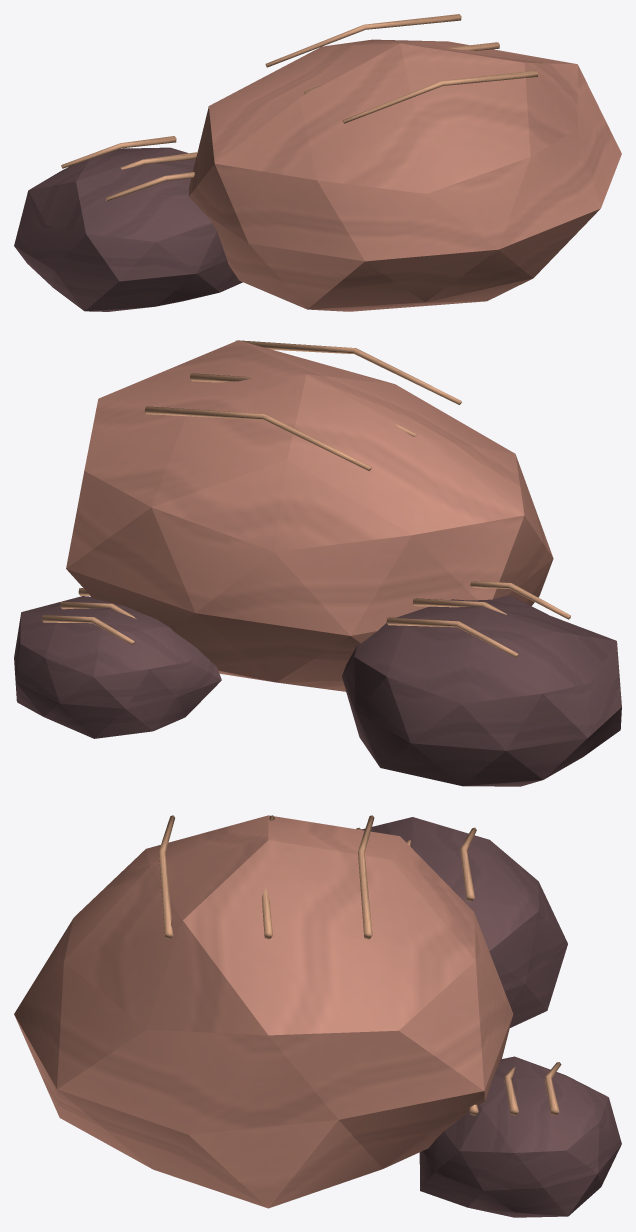
Rendered from PilotBoulder_2.fbx.
3 views of the same model, one above another, from view 1: azimuth 30°, elevation 25°; view 2: azimuth 150°, elevation 25°; view 3: azimuth 270°, elevation 25° (orthographic). The views are drawn at different scales.
Visible parts, largest first — view 1: PilotBoulder_2__Geometry; view 2: PilotBoulder_2__Geometry; view 3: PilotBoulder_2__Geometry.
Boxes of the visible parts, left/top/right/bottom form: PilotBoulder_2__Geometry: left=14, top=14, right=621, bottom=311; PilotBoulder_2__Geometry: left=14, top=340, right=621, bottom=786; PilotBoulder_2__Geometry: left=14, top=815, right=621, bottom=1217.
Bounding box in the file's own units: 1.62 × 0.7288 × 1.31.
